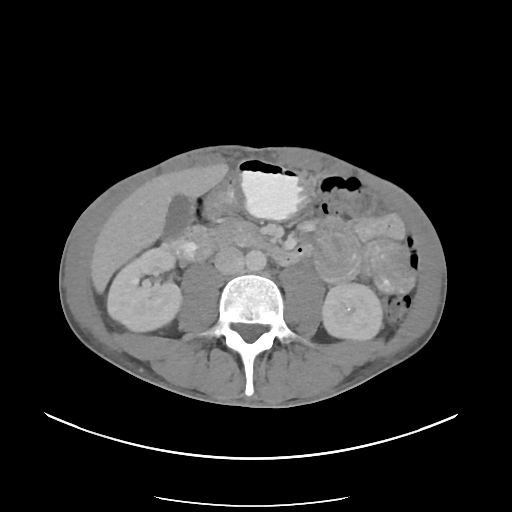Lesion: (377, 319, 386, 333)
